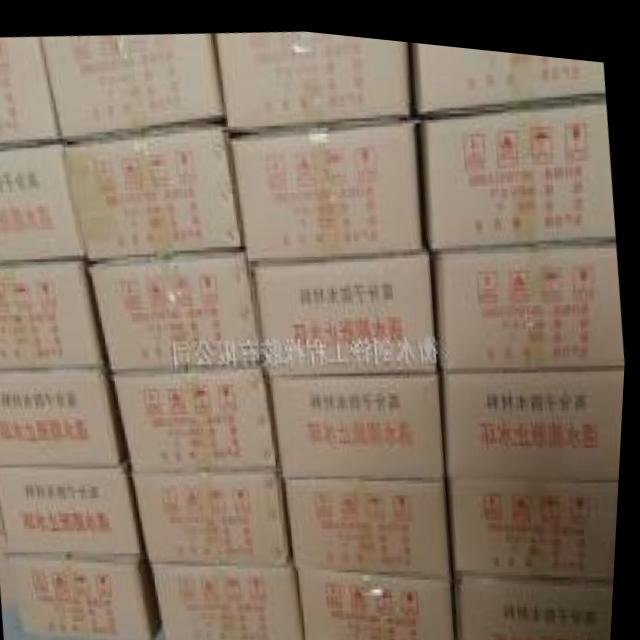box: (422, 91, 615, 239), (232, 114, 424, 258), (433, 234, 628, 358), (64, 121, 240, 256), (253, 248, 438, 368), (91, 249, 267, 369), (42, 28, 221, 140), (443, 359, 627, 465), (217, 26, 411, 124), (275, 364, 445, 469), (113, 363, 282, 467), (449, 468, 623, 564), (287, 470, 455, 562), (135, 467, 292, 557), (411, 34, 606, 104), (0, 467, 146, 555), (17, 554, 168, 639), (0, 366, 127, 464), (299, 563, 459, 640), (0, 259, 108, 373), (459, 565, 619, 640), (157, 563, 310, 640), (0, 148, 84, 266), (0, 35, 60, 146), (1, 490, 26, 615)
